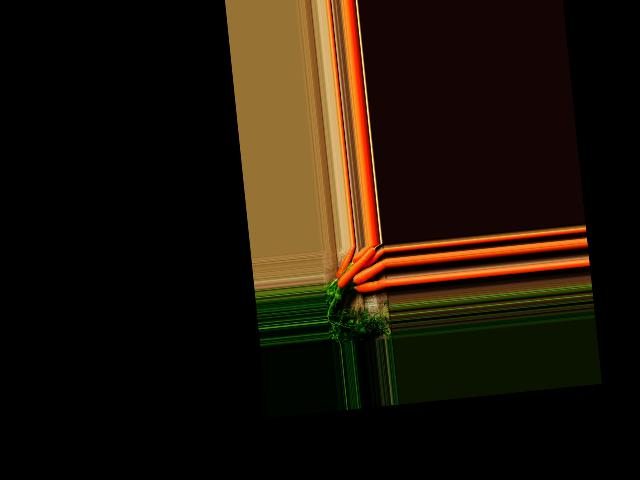carrot: (351, 261, 376, 264)
